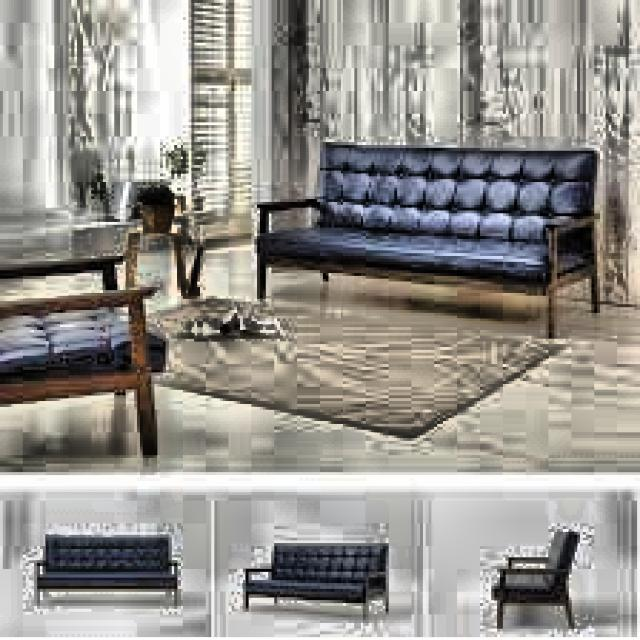sofa: (243, 140, 611, 324)
